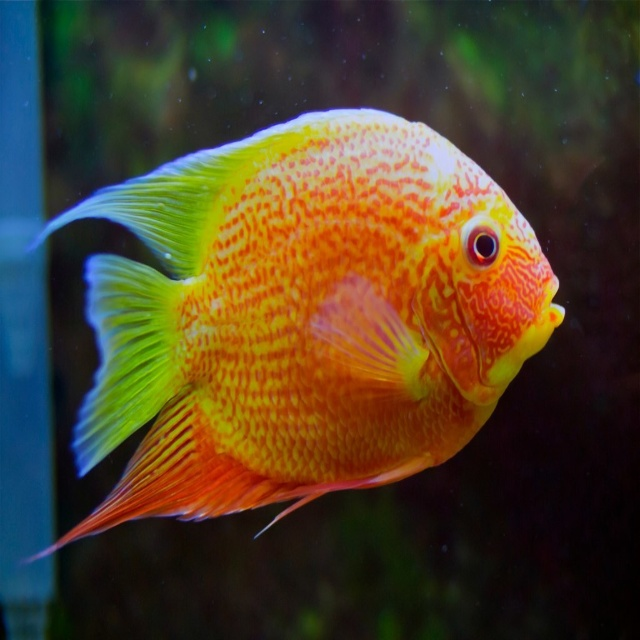Goldfish: (16, 89, 585, 576)
